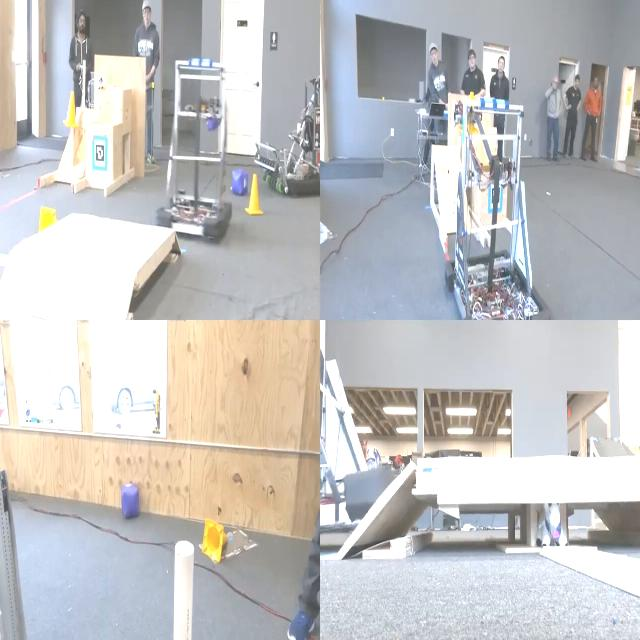frc_cone: (459, 85, 486, 141), (242, 171, 268, 221), (201, 524, 229, 564), (62, 93, 80, 131), (32, 210, 58, 233)
frc_cube: (200, 93, 226, 139), (119, 481, 144, 525), (230, 166, 247, 202)
